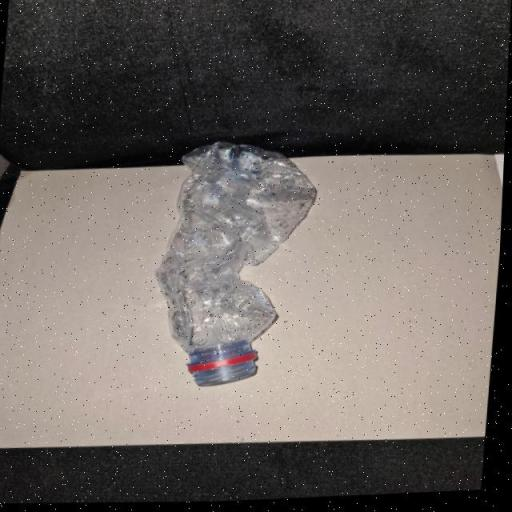plastic: (145, 137, 323, 393)
